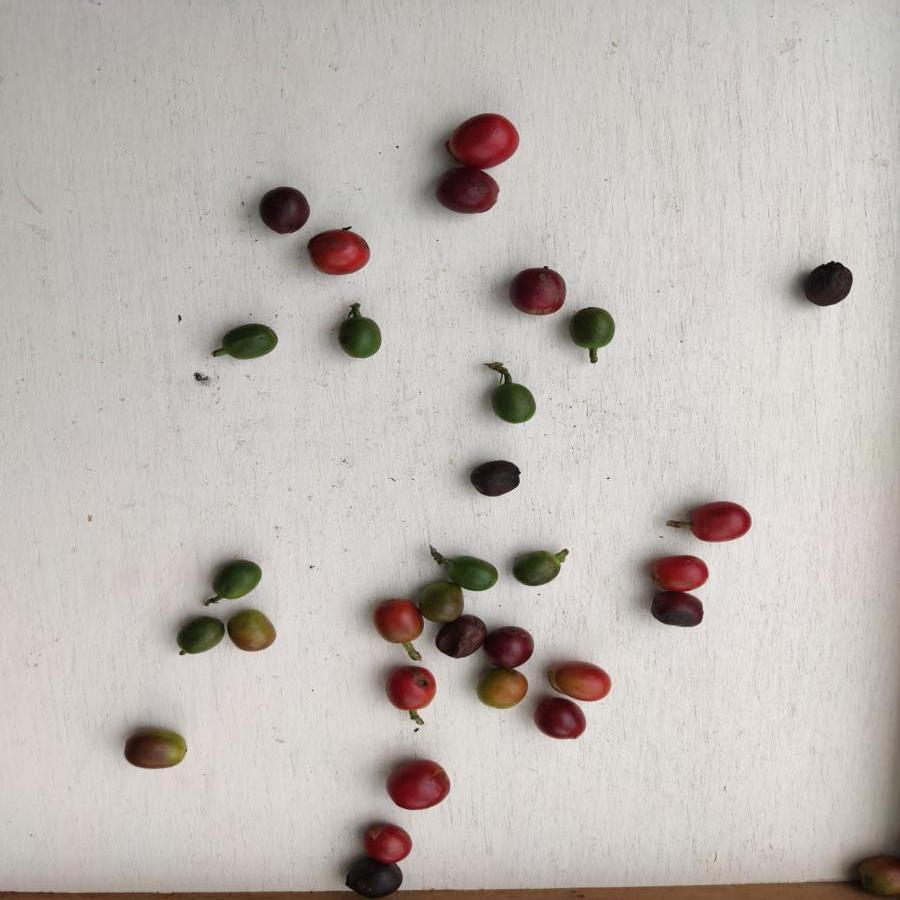Inmaduro: (223, 320, 285, 361), (567, 307, 617, 351), (210, 560, 263, 599), (492, 378, 536, 424), (513, 549, 560, 592), (338, 315, 386, 356), (441, 556, 499, 589), (176, 616, 224, 653)
Maduro: (448, 112, 520, 168), (384, 758, 452, 813), (306, 226, 373, 276), (688, 499, 752, 543), (382, 664, 437, 710), (650, 553, 711, 592), (371, 600, 420, 644), (360, 821, 412, 861)
Pinton: (547, 660, 614, 703), (125, 729, 189, 769), (226, 608, 280, 654), (477, 668, 530, 710), (852, 852, 900, 898), (418, 583, 467, 622)
Sobremaduro: (435, 167, 501, 214), (507, 266, 567, 315), (801, 259, 854, 306), (258, 186, 309, 234), (535, 697, 586, 743), (345, 857, 401, 898), (648, 592, 708, 629), (435, 619, 485, 660), (486, 625, 534, 666), (470, 459, 521, 497)
